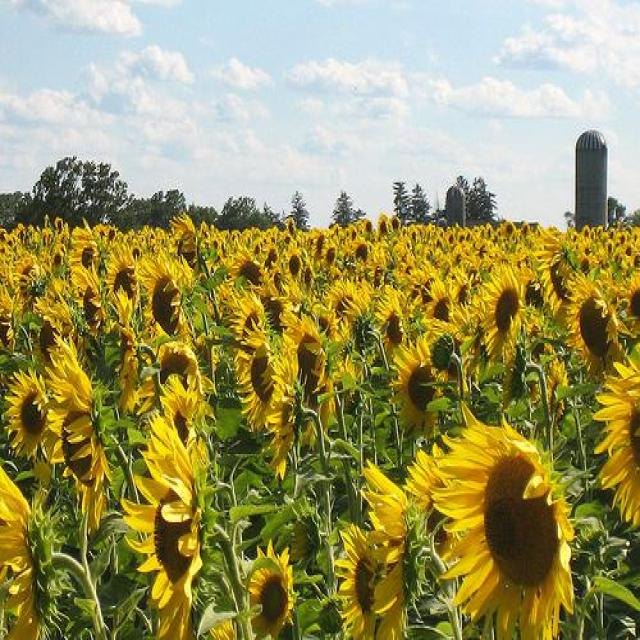sunflower: (430, 399, 585, 640), (121, 409, 216, 640), (48, 334, 107, 529), (359, 460, 411, 639), (0, 464, 50, 640), (592, 356, 640, 530), (404, 442, 467, 558), (134, 323, 217, 411), (566, 272, 624, 376), (286, 317, 339, 423), (234, 343, 290, 442), (390, 335, 445, 432), (241, 540, 294, 640), (2, 365, 56, 461), (335, 525, 380, 640), (479, 266, 530, 359), (104, 287, 141, 411), (530, 227, 581, 316), (266, 349, 301, 478), (137, 248, 191, 329), (420, 278, 466, 336), (33, 295, 69, 363), (104, 244, 140, 312), (229, 286, 268, 344), (375, 293, 409, 357), (500, 322, 526, 403), (228, 246, 268, 296), (302, 375, 335, 423), (543, 358, 568, 420), (516, 266, 550, 308), (170, 213, 198, 264), (78, 278, 105, 330), (0, 280, 18, 350), (262, 298, 296, 332), (623, 270, 640, 336), (323, 277, 351, 316), (73, 236, 100, 274), (266, 264, 298, 296), (14, 256, 38, 293), (292, 516, 314, 555), (208, 614, 235, 640), (350, 233, 370, 264), (286, 247, 302, 277), (321, 238, 337, 268), (377, 214, 392, 236), (501, 220, 517, 239)
